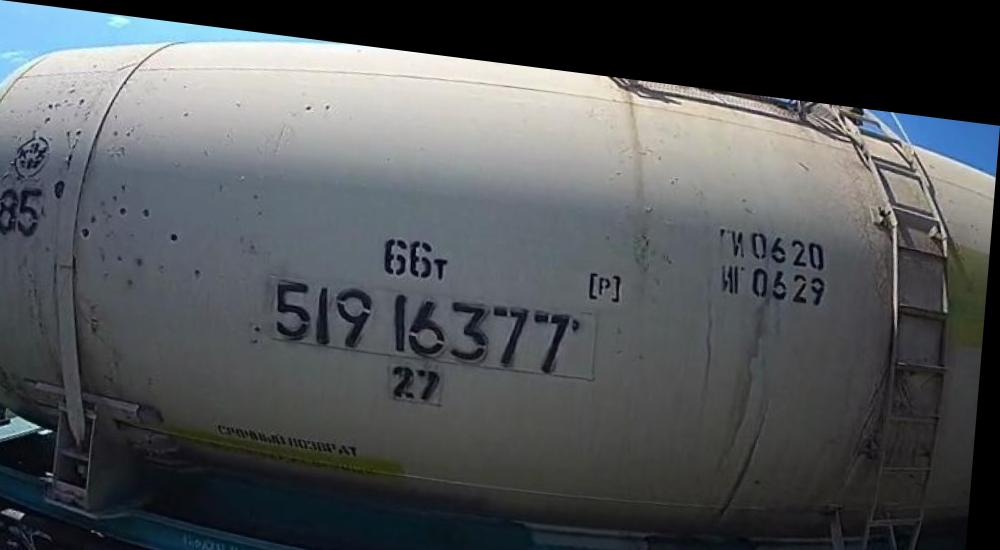Wagon-number: (273, 267, 586, 363)
